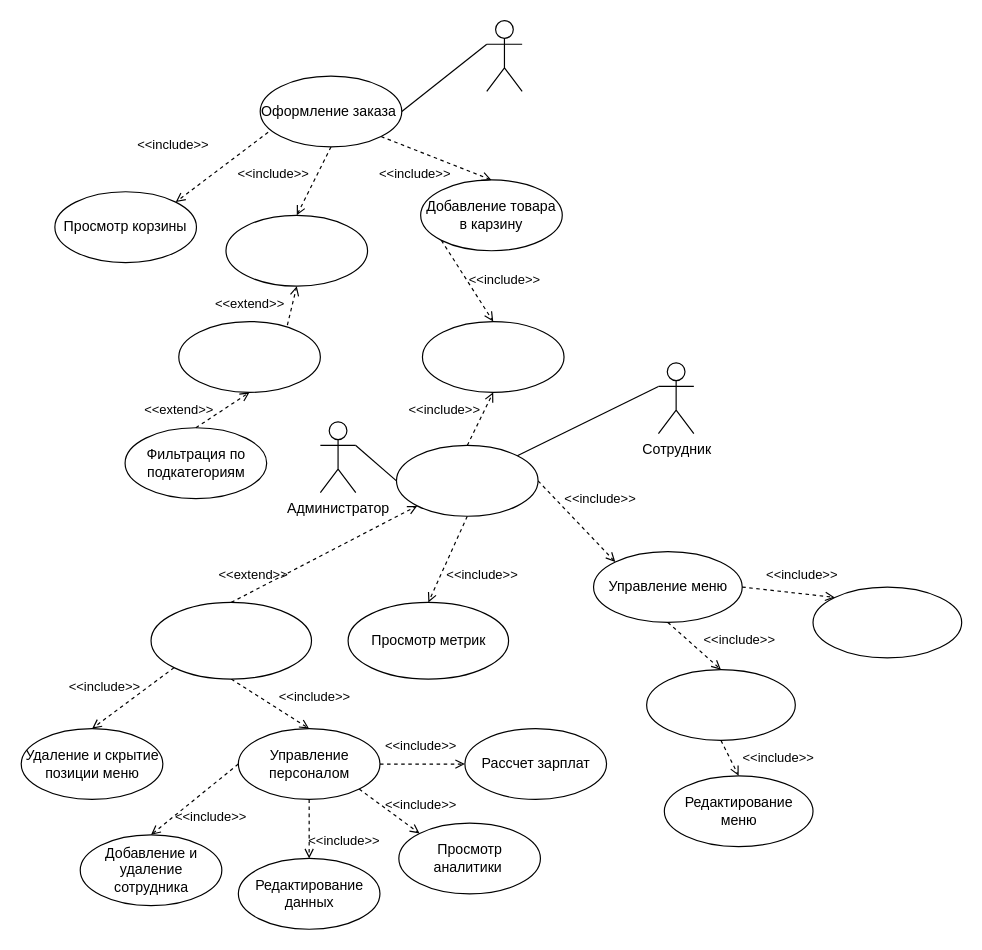
This 982x950 diagram has some shape labels left out. The shapes that lost their labels are listed below. From the top down, each one's centre as x and y in pixels, then its label:
[504,55]: Клиент
[296,250]: Просмотр меню
[249,356]: Фильтрация по категориям
[492,356]: Изменение статуса заказа
[466,480]: Аутентификация
[231,640]: Авторизация админа
[887,622]: Отслеживание доступа позиции
[720,704]: Просмотр позиций меню
